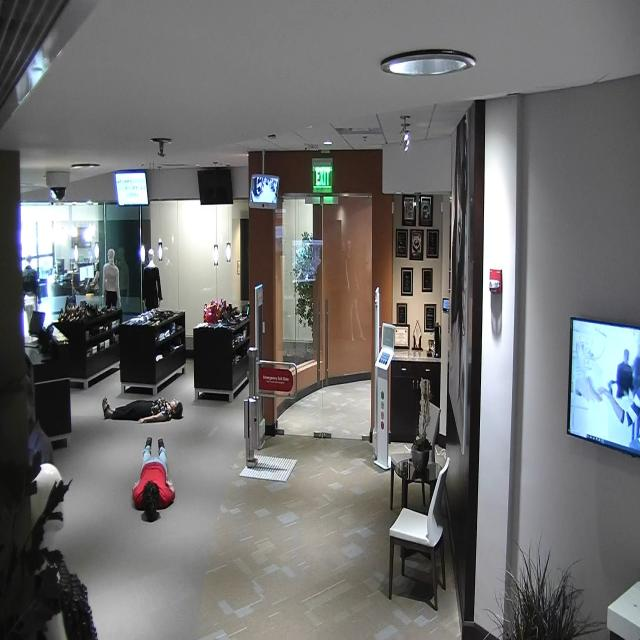fall: (130, 427, 178, 528), (98, 383, 190, 429)
